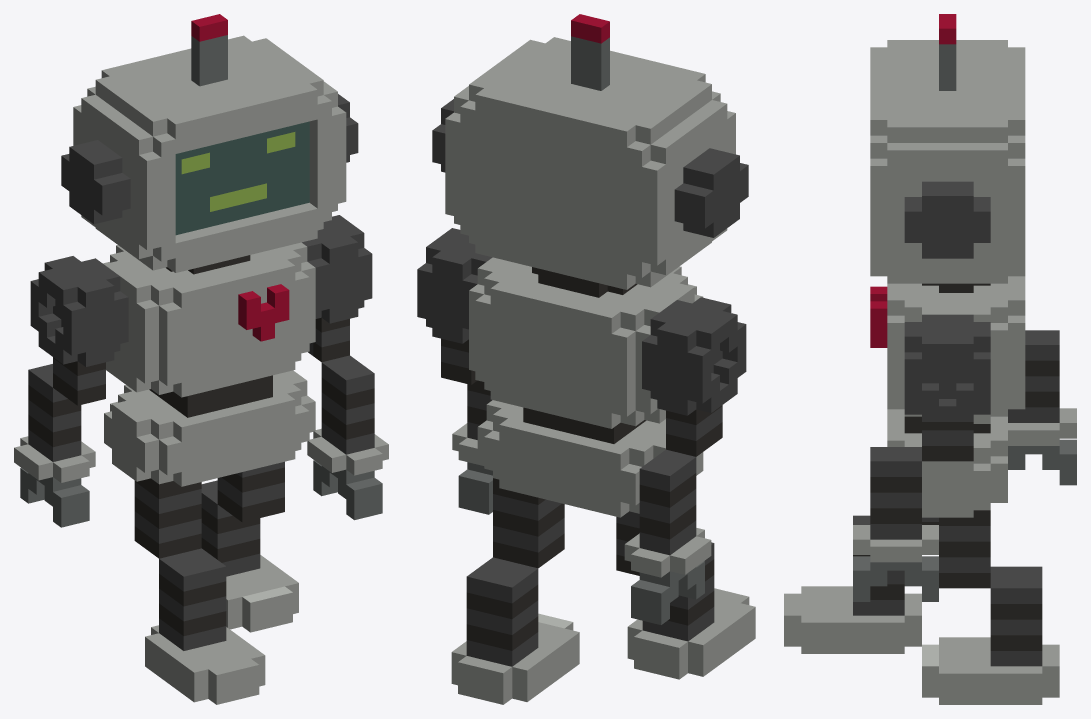
The model's file is player_main_walk_0.fbx.
3 views of the same model, side by side, from view 1: azimuth 30°, elevation 25°; view 2: azimuth 150°, elevation 25°; view 3: azimuth 270°, elevation 25° (orthographic). The views are drawn at different scales.
Visible parts, largest first — view 1: model_1; view 2: model_1; view 3: model_1.
Boxes of the visible parts, x1,y1,x2,y2 form: model_1: [14, 14, 388, 704]; model_1: [417, 14, 755, 704]; model_1: [784, 14, 1076, 704].
Bounding box in the file's own units: 200 × 170 × 410.
